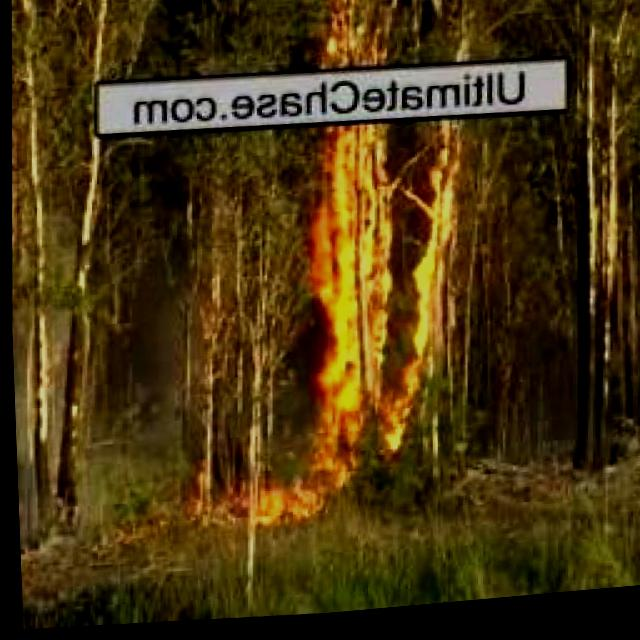helmet: (279, 121, 473, 460), (236, 457, 355, 547), (316, 0, 394, 73)
